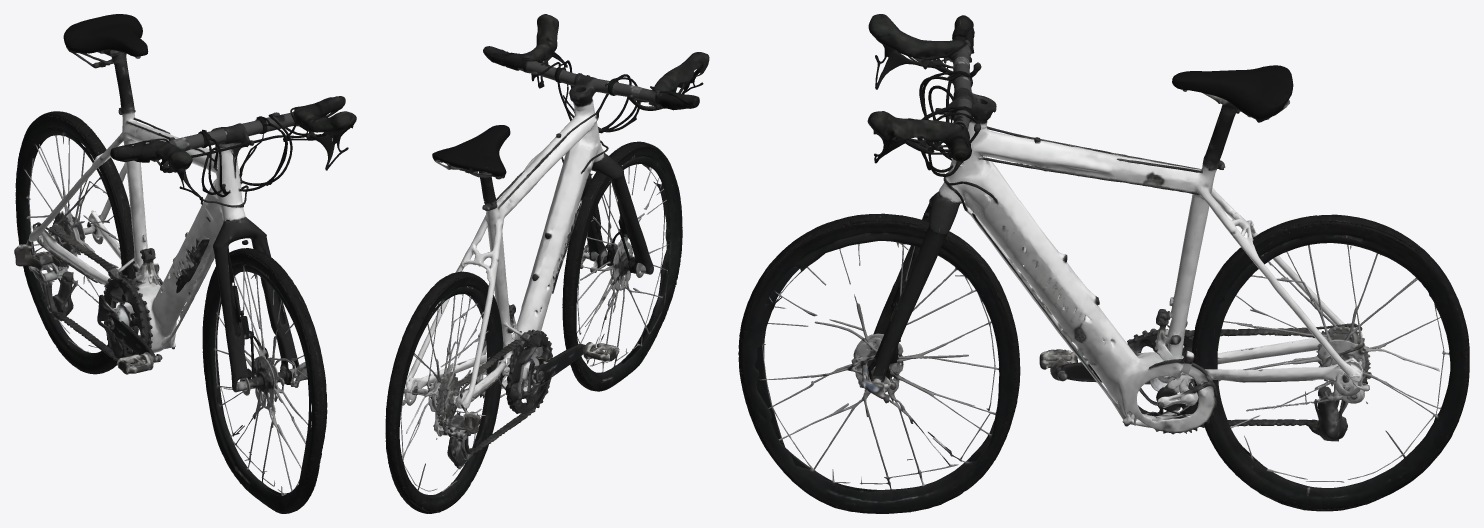
The model's file is canyon.glb.
The picture shows the model from 3 angles, left to right: view 1: azimuth 30°, elevation 25°; view 2: azimuth 150°, elevation 25°; view 3: azimuth 270°, elevation 25°; orthographic projection. The views are drawn at different scales.
Parts seen in each view (by area): view 1: geometry_0; view 2: geometry_0; view 3: geometry_0.
Boxes of the visible parts, x1=… form: geometry_0: x1=14, y1=14, x2=356, y2=513; geometry_0: x1=385, y1=14, x2=709, y2=513; geometry_0: x1=738, y1=14, x2=1469, y2=513.
Bounding box in the file's own units: 0.4367 × 0.6718 × 0.9989.
Materials: 1 (1 with a texture image).
